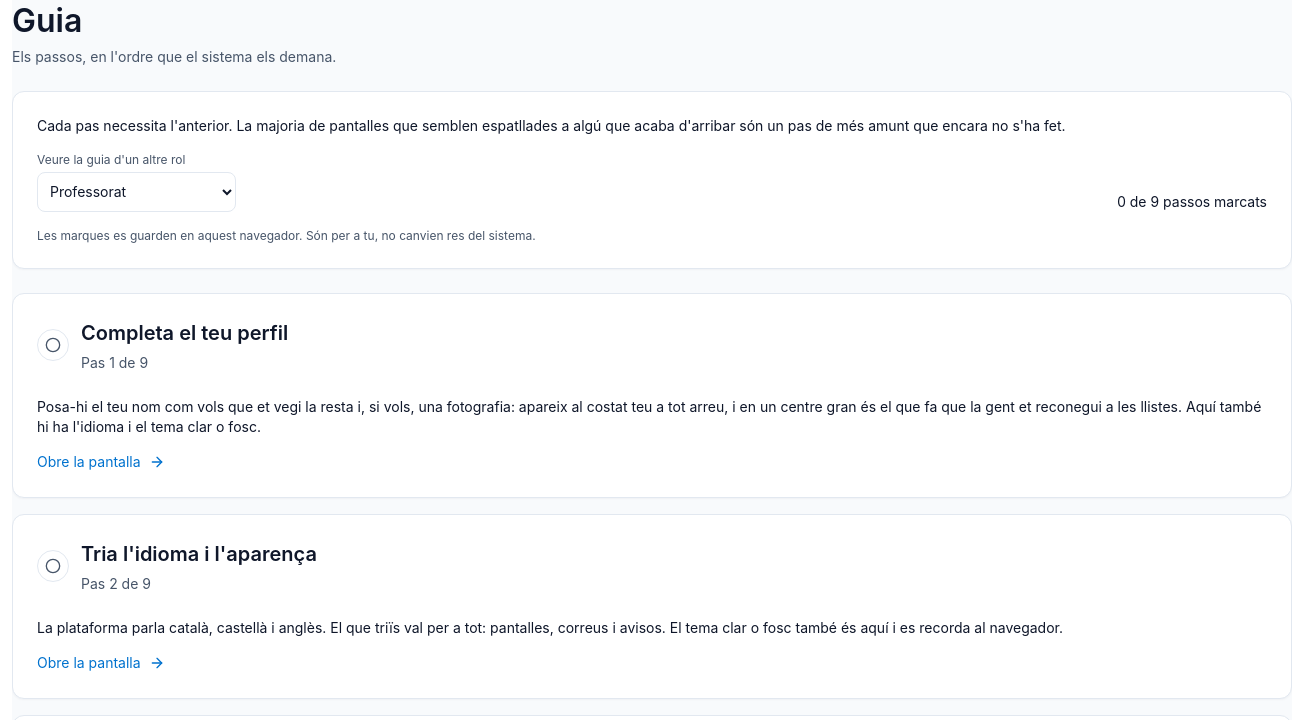
Test: the getting-started guide › lets somebody read another role’s guide without holding it
Select "Superadministració" in the dropdown labelled "Veure la guia d'un altre rol" at (136, 192), box 37,172 -> 236,212
(page scrolled)
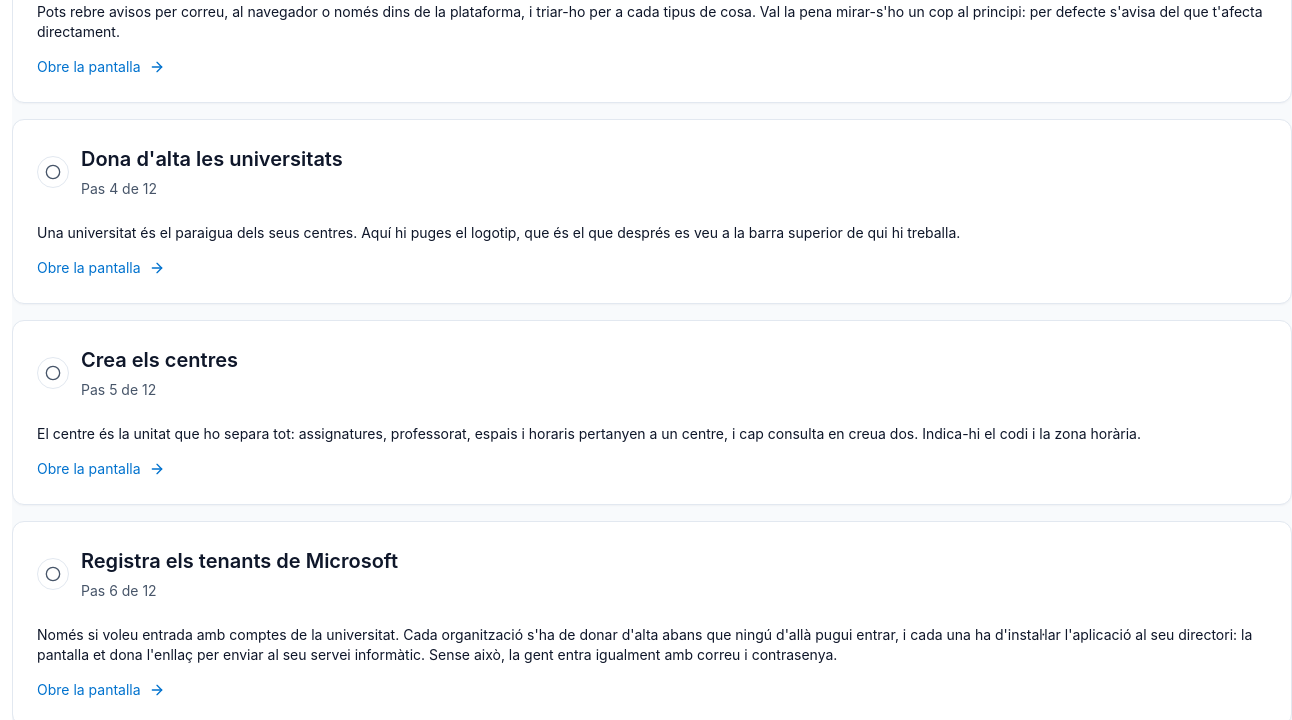
Now the heading "Crea els centres" is shown, box 81,345 -> 238,376
